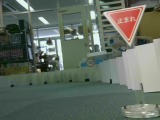stop: (103, 5, 146, 45)
